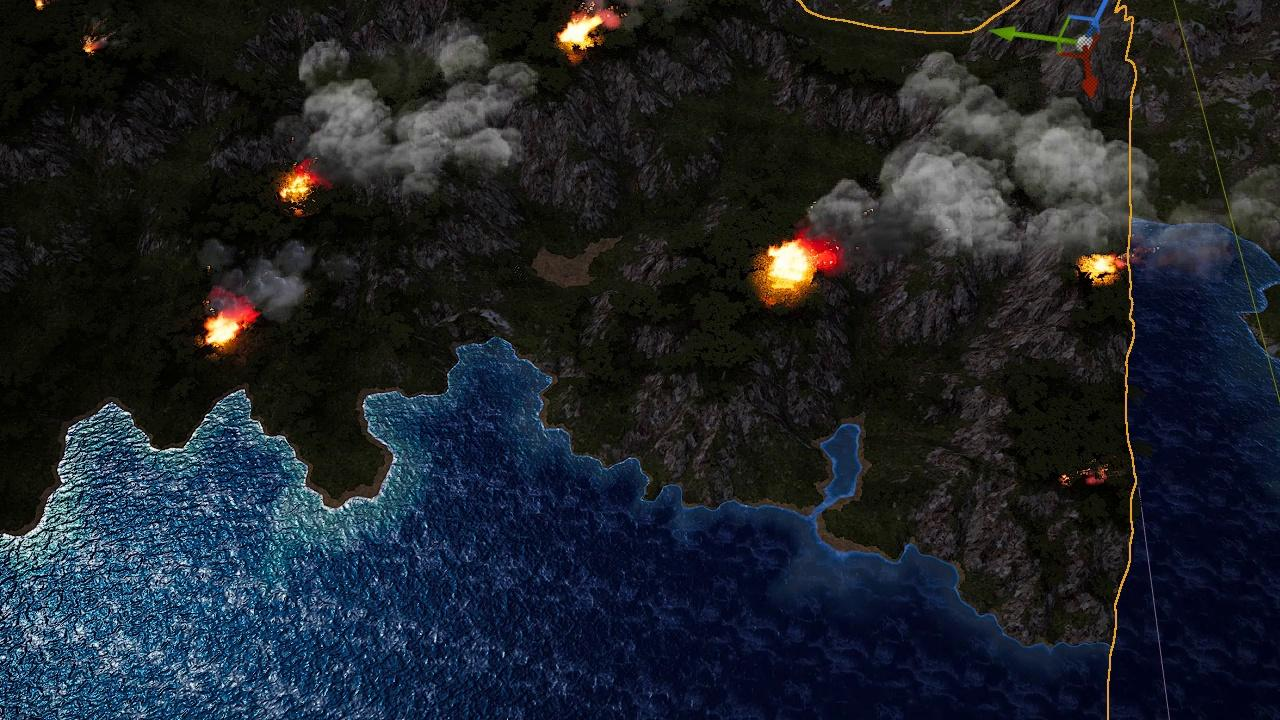fire: (766, 239, 816, 292), (204, 311, 252, 348), (558, 11, 604, 49), (279, 167, 317, 203), (1077, 254, 1118, 279), (1076, 466, 1104, 485), (82, 34, 101, 55), (1059, 472, 1083, 486), (30, 0, 48, 10)
smoke: (792, 55, 1123, 260), (279, 20, 539, 195), (1129, 141, 1234, 281), (202, 238, 362, 319), (587, 0, 701, 22)
